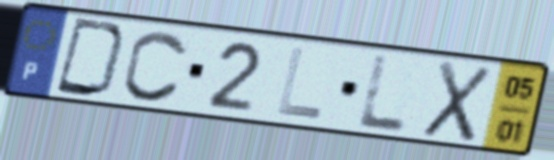2: (208, 39, 267, 113)
C: (120, 27, 193, 105)
D: (52, 15, 132, 101)
L: (353, 52, 410, 136), (273, 44, 327, 122)
X: (418, 57, 497, 146)
